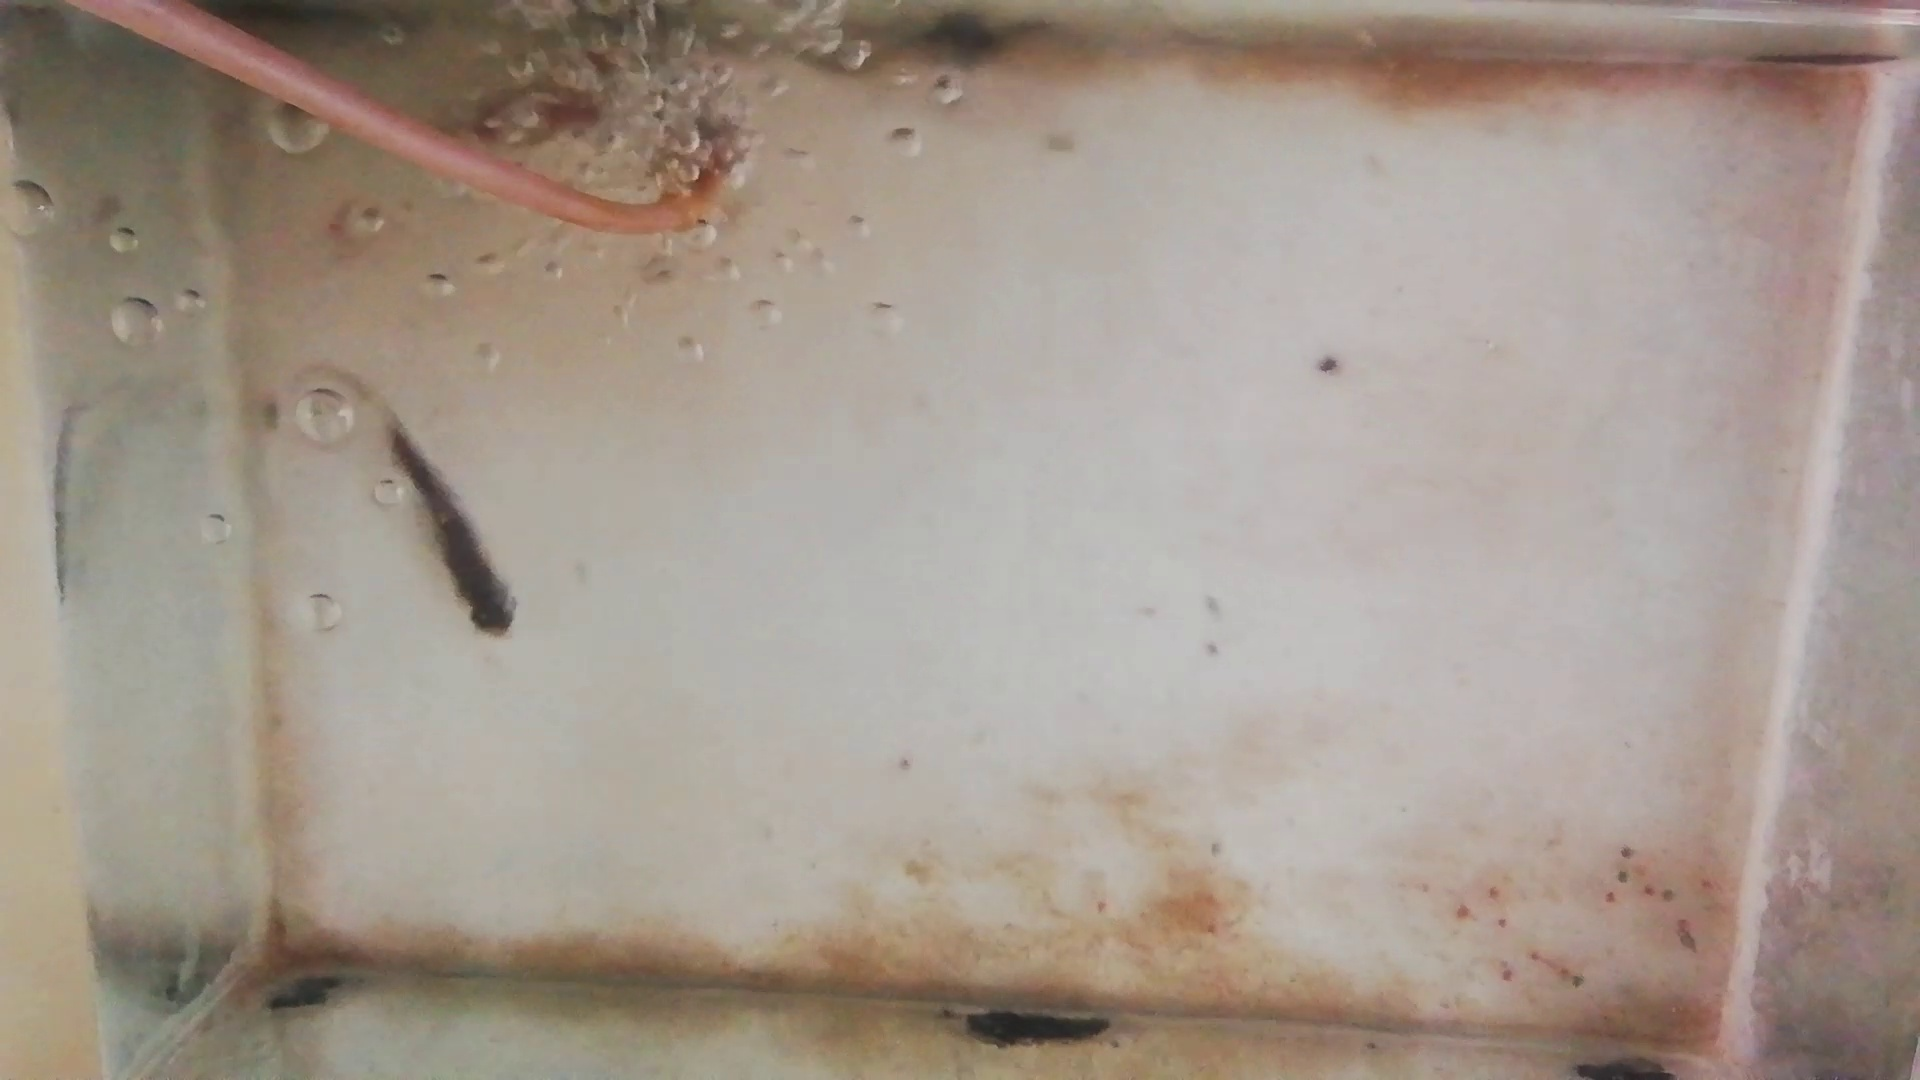fish: (384, 415, 517, 638), (451, 53, 626, 138)
